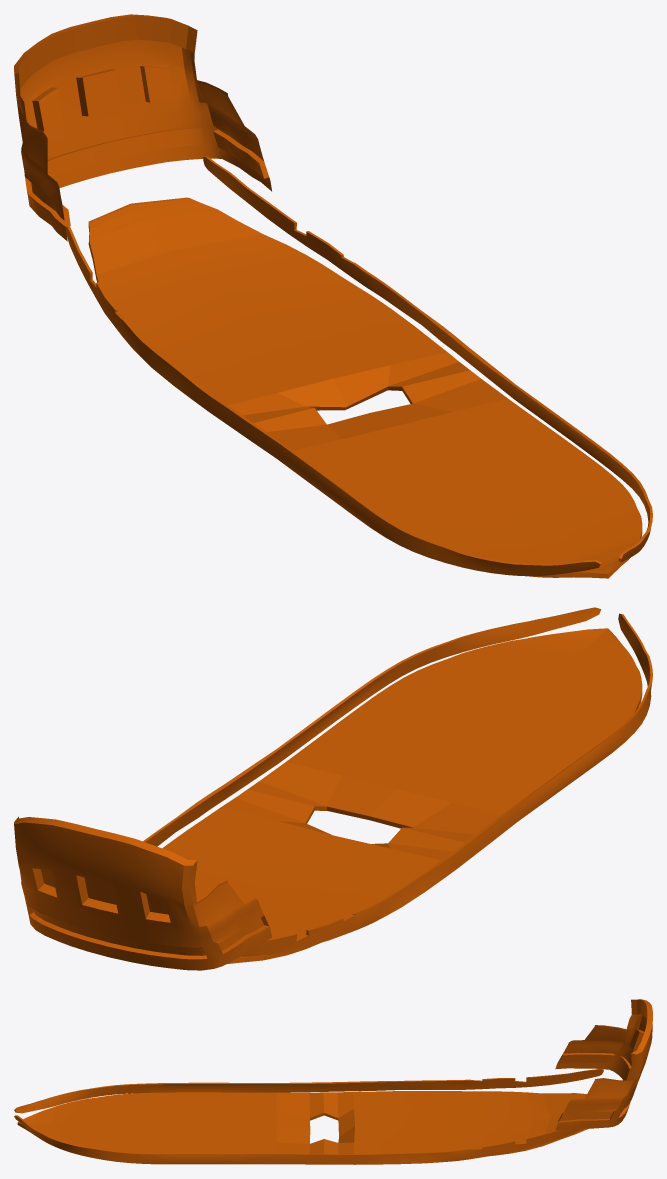
File: Level2Env.fbx
The picture shows the model from 3 angles, top to bottom: view 1: azimuth 30°, elevation 25°; view 2: azimuth 150°, elevation 25°; view 3: azimuth 270°, elevation 25°; orthographic projection. The views are drawn at different scales.
Visible parts, largest first — view 1: HullBelow.001, Plane.016, SidesPlanks.001; view 2: HullBelow.001, Plane.016, SidesPlanks.001; view 3: HullBelow.001, SidesPlanks.001, Plane.016.
Part boxes in pixels (x1,y1,x2,y2): HullBelow.001: [88, 197, 642, 578]; Plane.016: [14, 14, 271, 241]; SidesPlanks.001: [61, 156, 652, 576]; HullBelow.001: [162, 628, 642, 963]; Plane.016: [14, 816, 272, 970]; SidesPlanks.001: [143, 607, 652, 956]; HullBelow.001: [17, 1091, 588, 1156]; SidesPlanks.001: [14, 1068, 603, 1164]; Plane.016: [555, 999, 652, 1130].
Size of the model in its own units: 1533 by 1193 by 5520.
